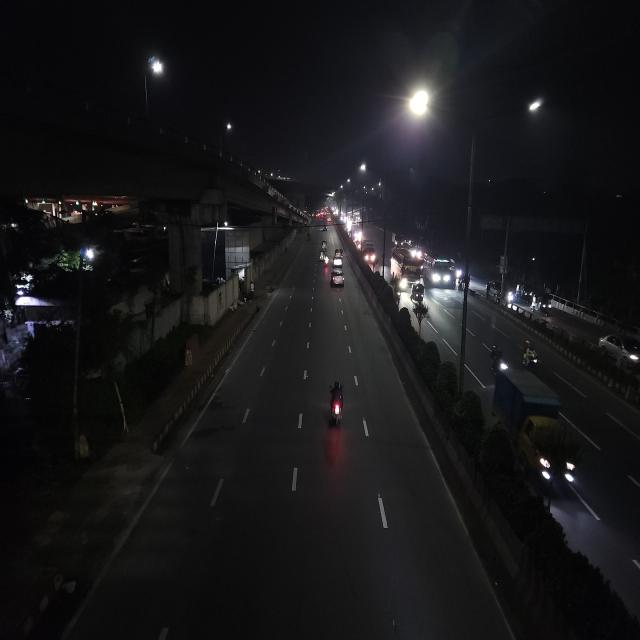bus: (389, 247, 423, 289), (423, 255, 455, 291)
car: (596, 330, 640, 369), (329, 266, 345, 289), (332, 255, 344, 267), (334, 246, 343, 258)
cng: (409, 281, 428, 312), (530, 292, 552, 318), (485, 280, 501, 305), (318, 250, 326, 264), (321, 240, 328, 250)
motorcycle: (324, 378, 348, 430), (486, 341, 510, 377), (519, 338, 542, 371)
truck: (489, 364, 583, 507)
